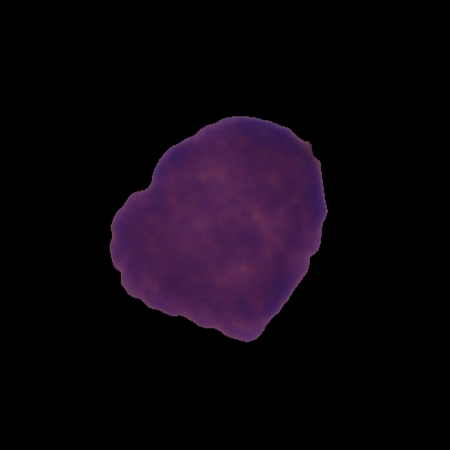HEM: (106, 111, 331, 345)
